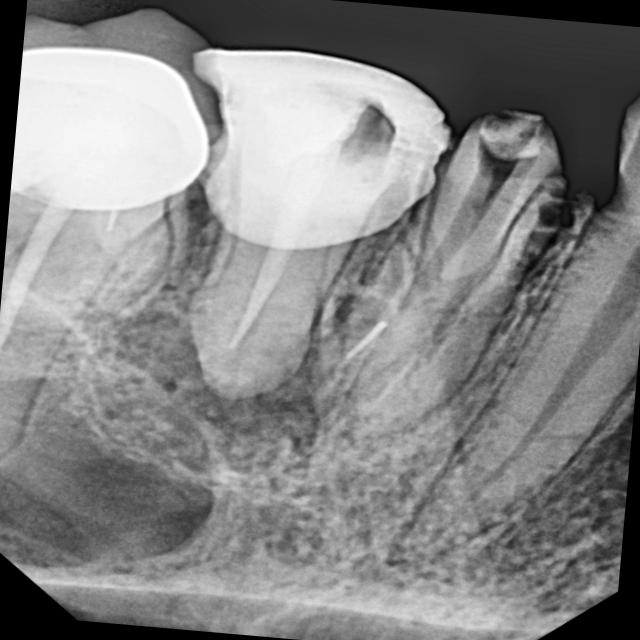Badly Decayed: (333, 97, 563, 432)
Caries: (471, 163, 609, 346)
Crown: (10, 0, 217, 214)
RCT: (184, 155, 386, 407)
Restoration: (165, 39, 483, 278)
